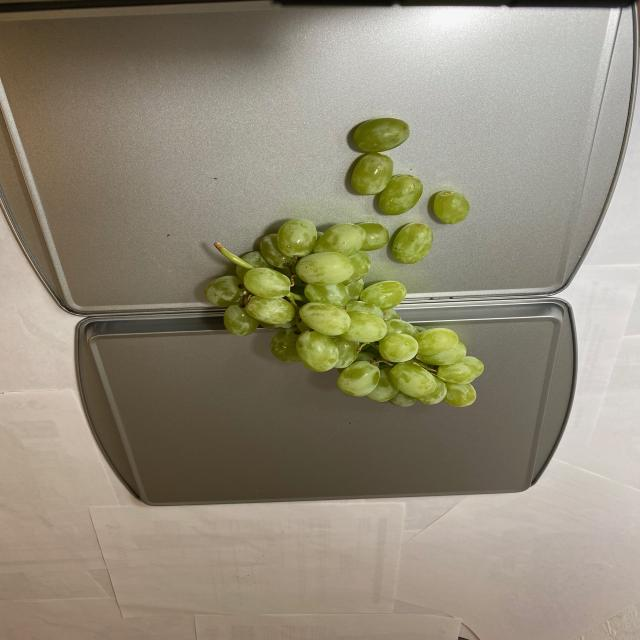grapes: (204, 120, 488, 410)
